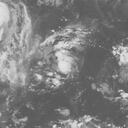cyclone: (28, 34, 76, 81)
